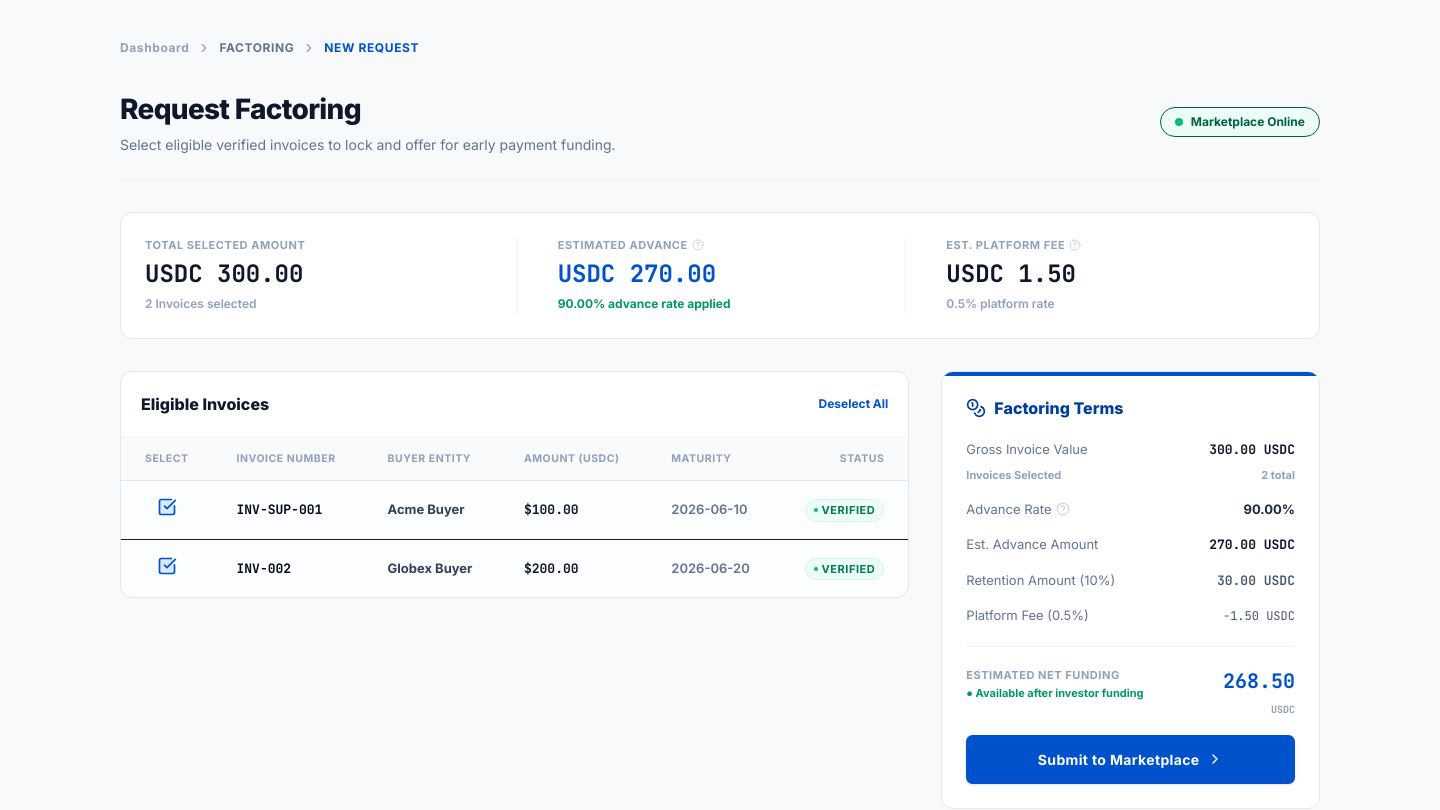
Scenario: supplier FactoringView component functions › prevents marketplace submission when no invoices are selected
Click the button "Deselect All" at (853, 404), box 818,396 -> 888,412
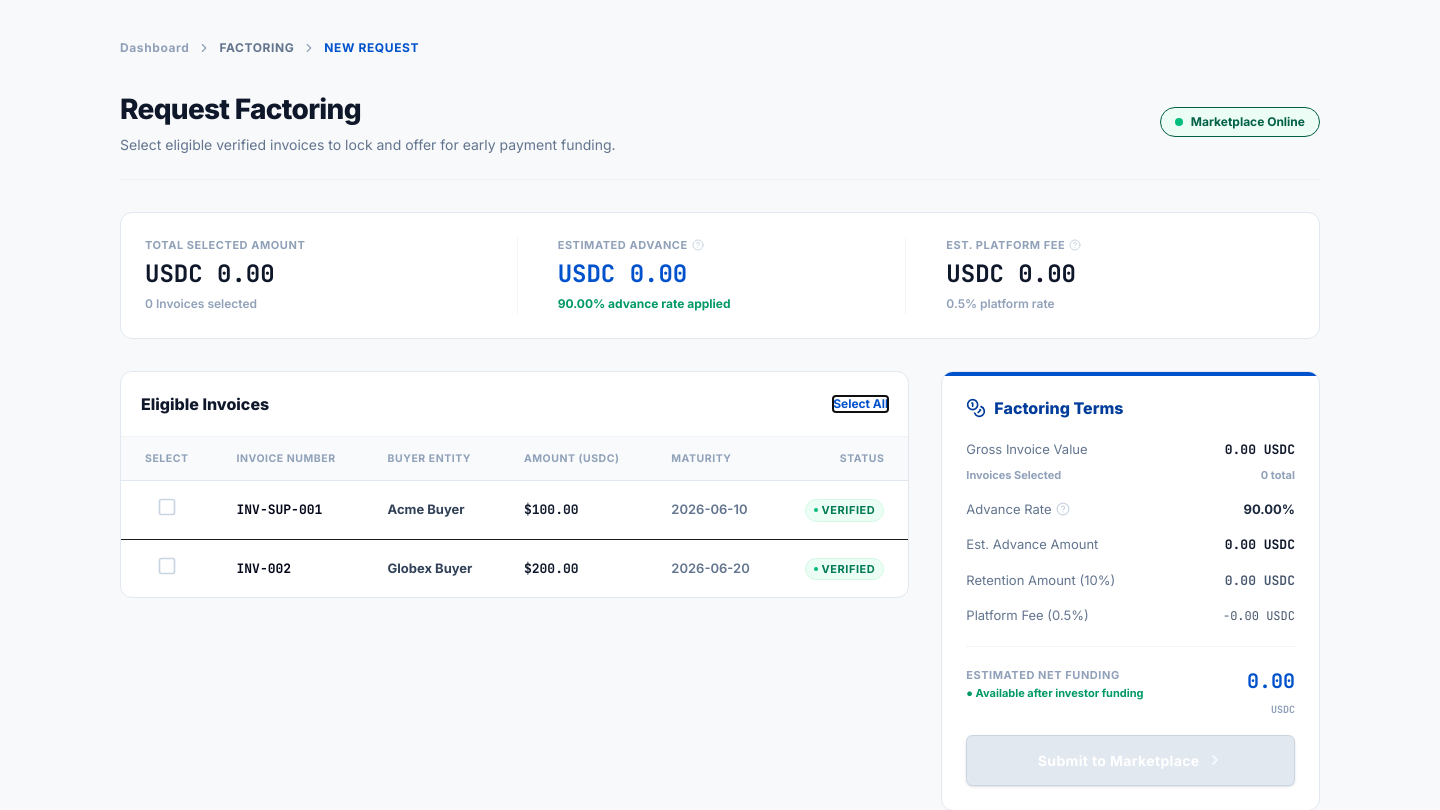
Result: the button "Submit to Marketplace" is disabled at 966,734 -> 1295,786
Result: the text "0 Invoices selected" is shown at 145,296 -> 257,310
